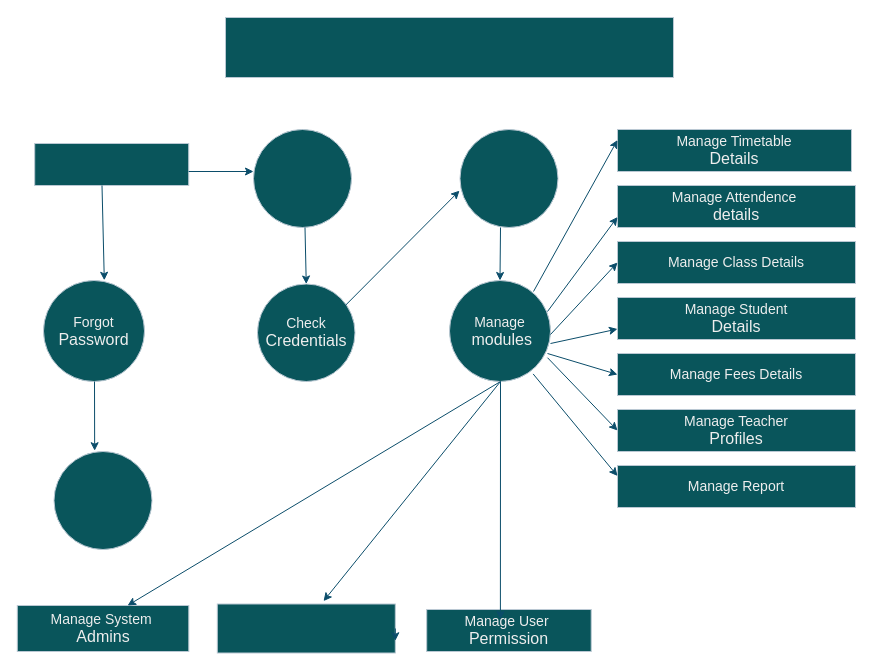
Image size: 874x671. Some labels were removed from this diagram. The shapes that lost their labels are listed below. From the top down, each one's centre as x and y in pixels, then its label:
[449,47]: S tudent Information System
[111,164]: Admin
[302,178]: Login to Modules
[508,178]: Check roles Access
[102,500]: Send Email to User
[305,628]: Manage Roles of User
